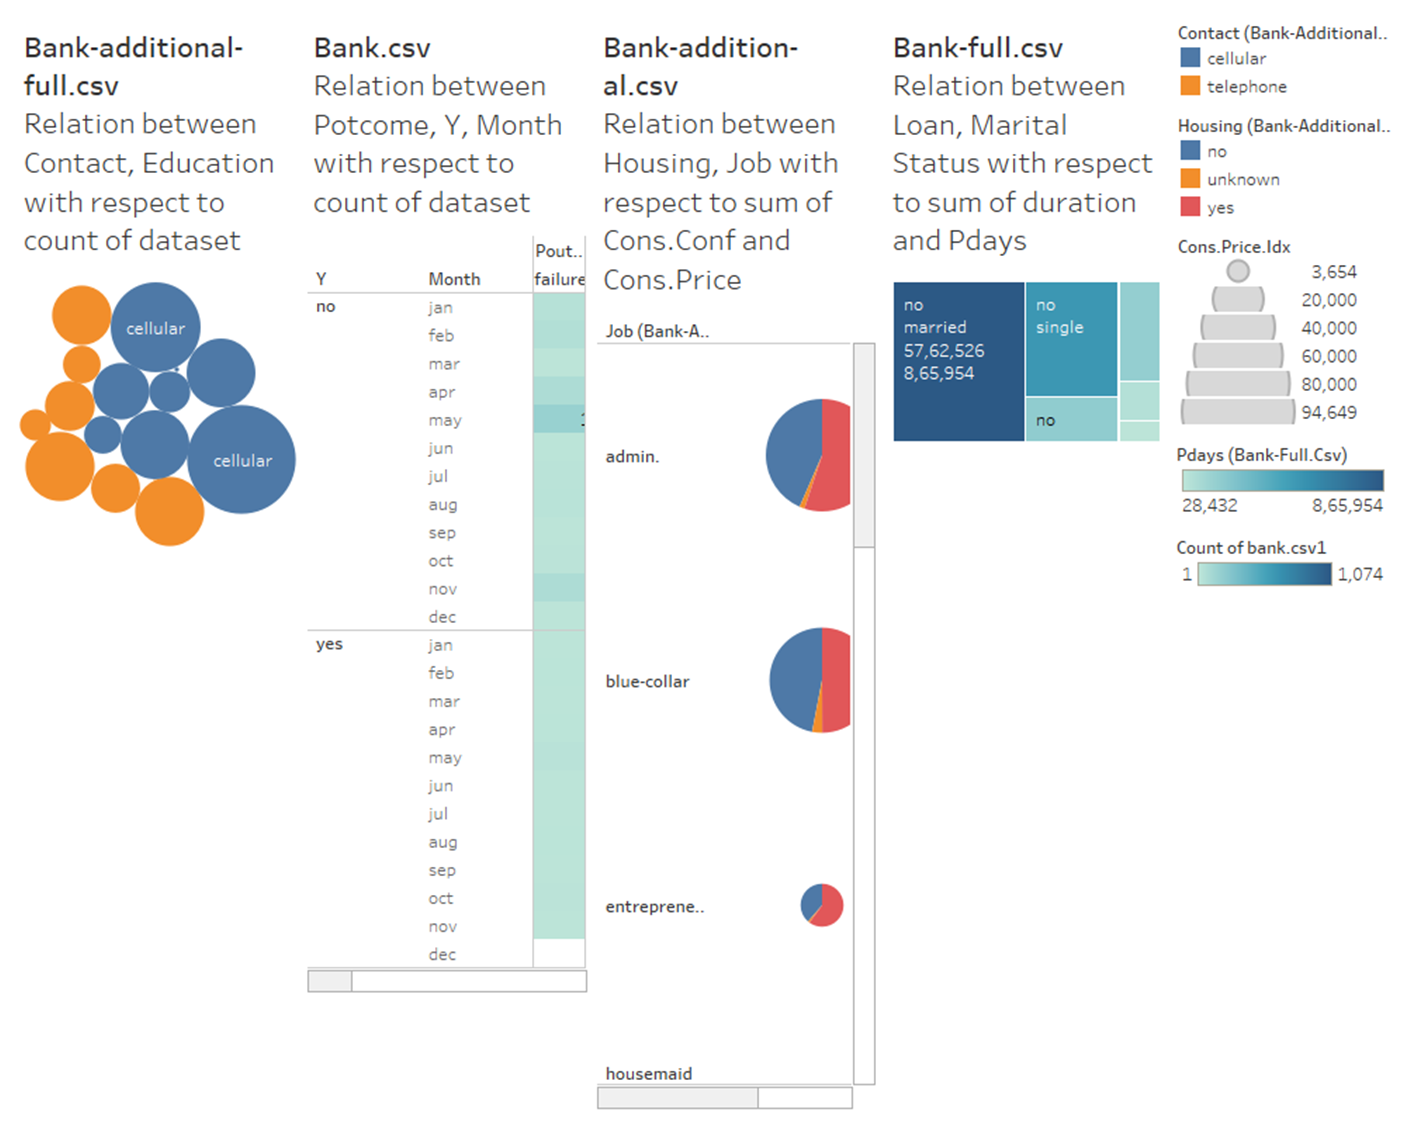

The dashboard page shown, as its layout file describes it:
{"tool":"tableau","page":{"name":"Dashboard 3","canvas":[1000,800],"ordinal":2},"visuals":[{"type":"worksheet","title":"Sheet 1","mark":"Circle","box":[8,8,206,784]},{"type":"worksheet","title":"Sheet 4","mark":"Square","rows":["y","month"],"cols":["poutcome"],"box":[214,8,206,784]},{"type":"worksheet","title":"Sheet 2","mark":"Pie","rows":["job (bank-additional.csv)"],"box":[420,8,206,784]},{"type":"worksheet","title":"Sheet 3","mark":"Automatic","box":[626,8,206,784]},{"type":"legend","title":"Sheet 1","param":"[federated.1iuugzy0r8b52j1bh1jbb0fz77mk].[none:contact (bank-additional-full.csv","box":[832,8,160,72]},{"type":"legend","title":"Sheet 2","param":"[federated.1iuugzy0r8b52j1bh1jbb0fz77mk].[none:housing (bank-additional.csv):nk]","box":[832,80,160,93]},{"type":"legend","title":"Sheet 2","param":"[federated.1iuugzy0r8b52j1bh1jbb0fz77mk].[sum:cons.price.idx:qk]","box":[832,173,160,156]},{"type":"legend","title":"Sheet 3","param":"[federated.1iuugzy0r8b52j1bh1jbb0fz77mk].[sum:pdays (bank-full.csv):qk]","box":[832,329,160,73]},{"type":"legend","title":"Sheet 4","param":"[federated.1iuugzy0r8b52j1bh1jbb0fz77mk].[__tableau_internal_object_id__].[cnt:b","box":[832,402,160,73]}]}

Visuals, with their boxes in screenshot pixels (x1, y1, x2, y2), scaled from the page's 1000x800 canvas onto the 1408x1127 screenshot:
"Sheet 1" worksheet (Circle marks): 11 11 301 1116
"Sheet 4" worksheet (Square marks): 301 11 591 1116
"Sheet 2" worksheet (Pie marks): 591 11 881 1116
"Sheet 3" worksheet: 881 11 1171 1116
"Sheet 1" legend: 1171 11 1397 113
"Sheet 2" legend: 1171 113 1397 244
"Sheet 2" legend: 1171 244 1397 463
"Sheet 3" legend: 1171 463 1397 566
"Sheet 4" legend: 1171 566 1397 669
